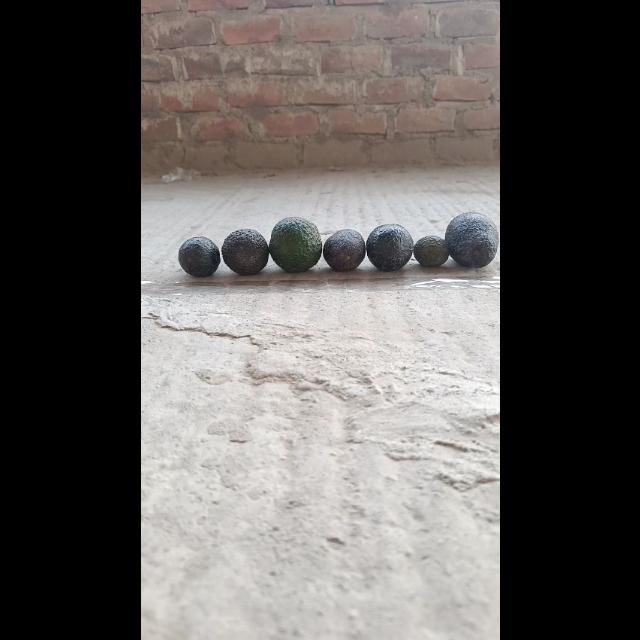Primera: (444, 210, 498, 268), (267, 216, 321, 272)
Segunda: (366, 223, 414, 271), (220, 228, 268, 276), (321, 228, 365, 272), (176, 236, 220, 276)
Tercera: (412, 235, 448, 268)
